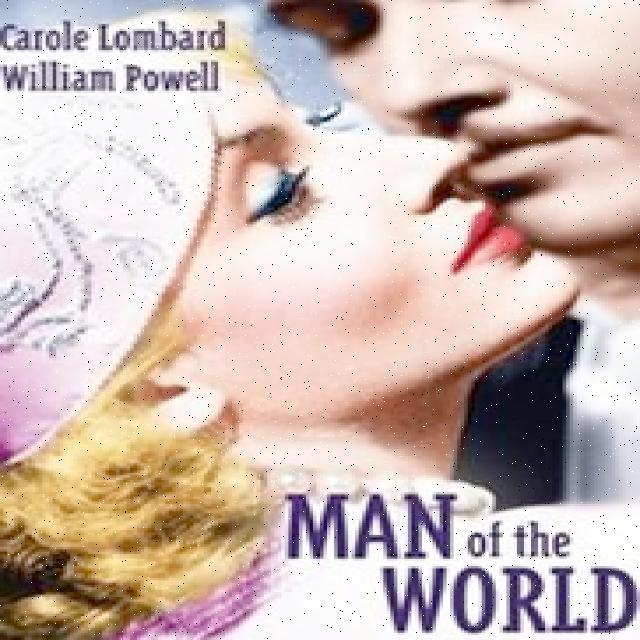movie-judul: (274, 485, 640, 640)
picture: (0, 0, 640, 623)
